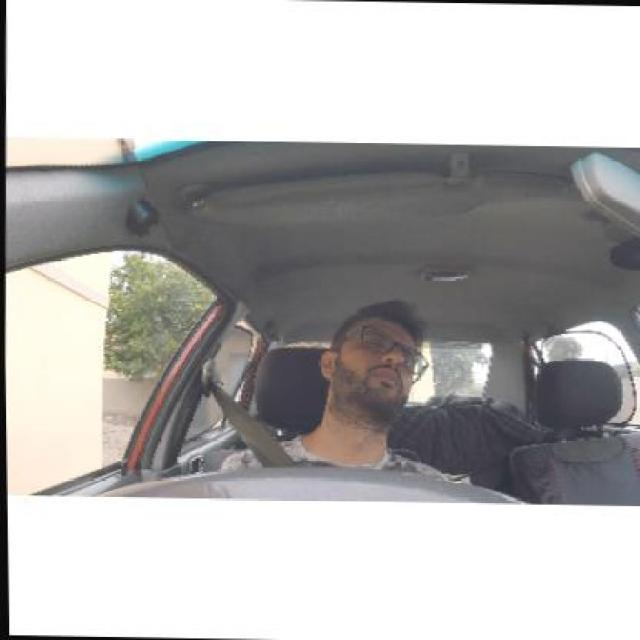drowsy: (312, 301, 433, 430)
